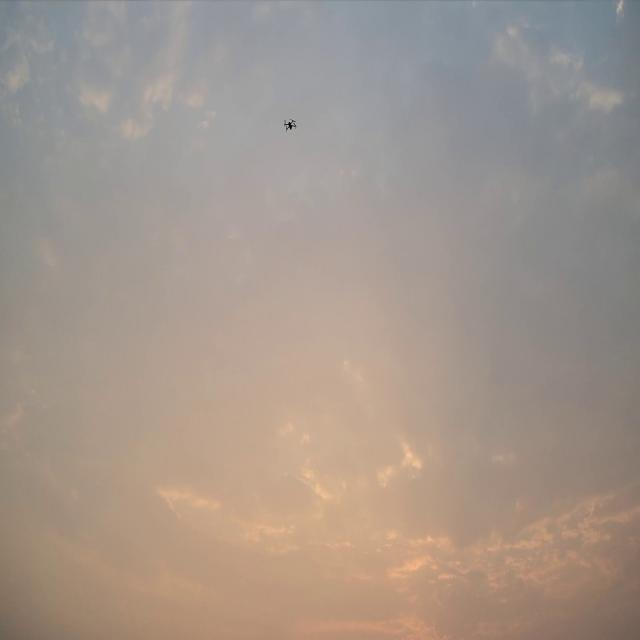UAV: (284, 118, 297, 132)
